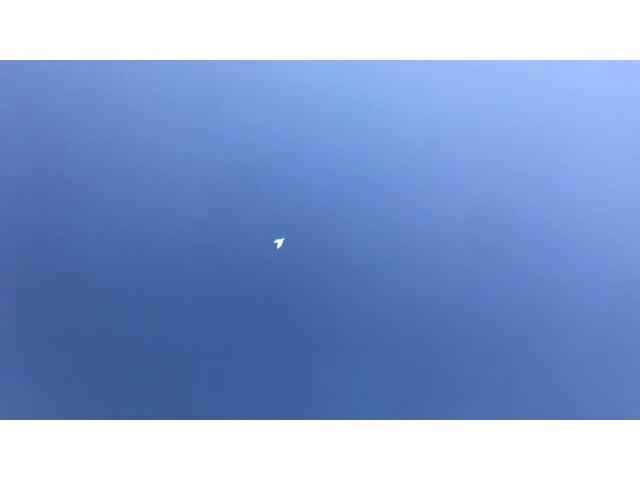Anti-Drone: (260, 230, 294, 250)
